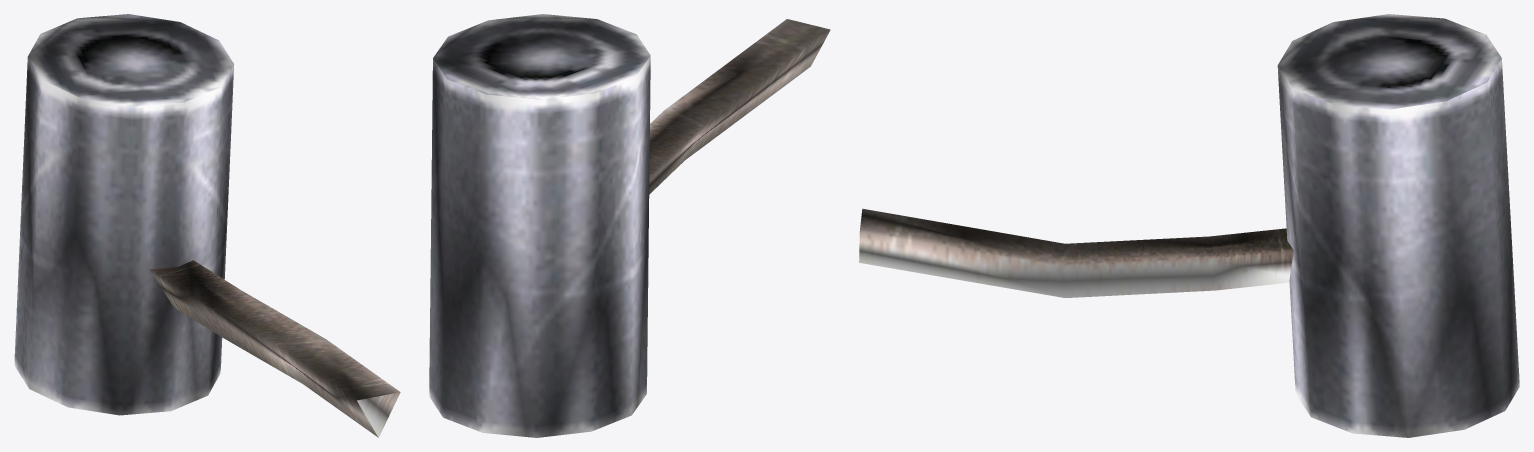
File: Robot01.RightShoulder4.fbx
3 views of the same model, side by side, from view 1: azimuth 30°, elevation 25°; view 2: azimuth 150°, elevation 25°; view 3: azimuth 270°, elevation 25° (orthographic). The views are drawn at different scales.
Visible parts, largest first — view 1: Robot.030; view 2: Robot.030; view 3: Robot.030.
Boxes of the visible parts, x1,y1,x2,y2 form: Robot.030: (14, 14, 400, 437); Robot.030: (429, 14, 830, 437); Robot.030: (859, 14, 1519, 437).
Size of the model in its own units: 13.57 by 22.89 by 40.43.
